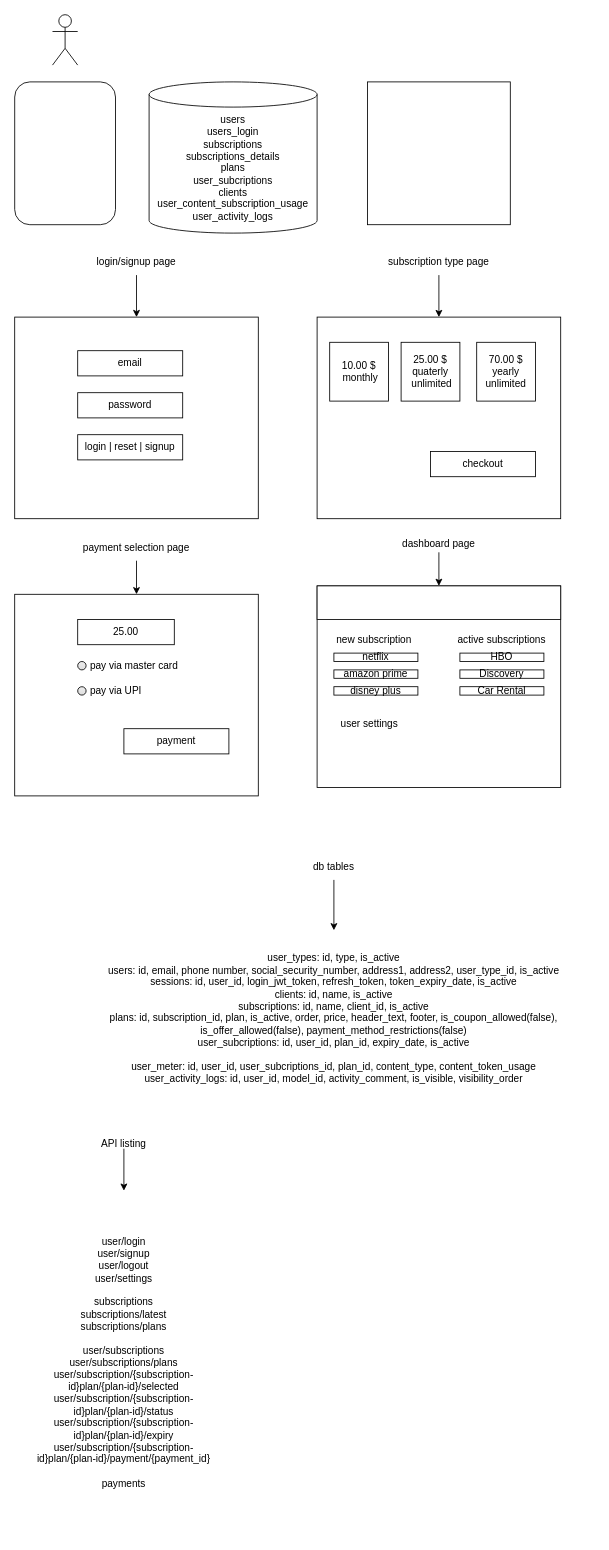
Image size: 609x1550. Some labels were removed from this diagram. The shapes that lost their labels are listed below. From the top down, each one's centre as x and y in pixels, then its label:
At (65,153): "SUBSCRIBERS PROVIDERS SYSTEMS".
At (438,153): "src/users-auth src/subscriptions src/client".
At (438,602): "DM".
